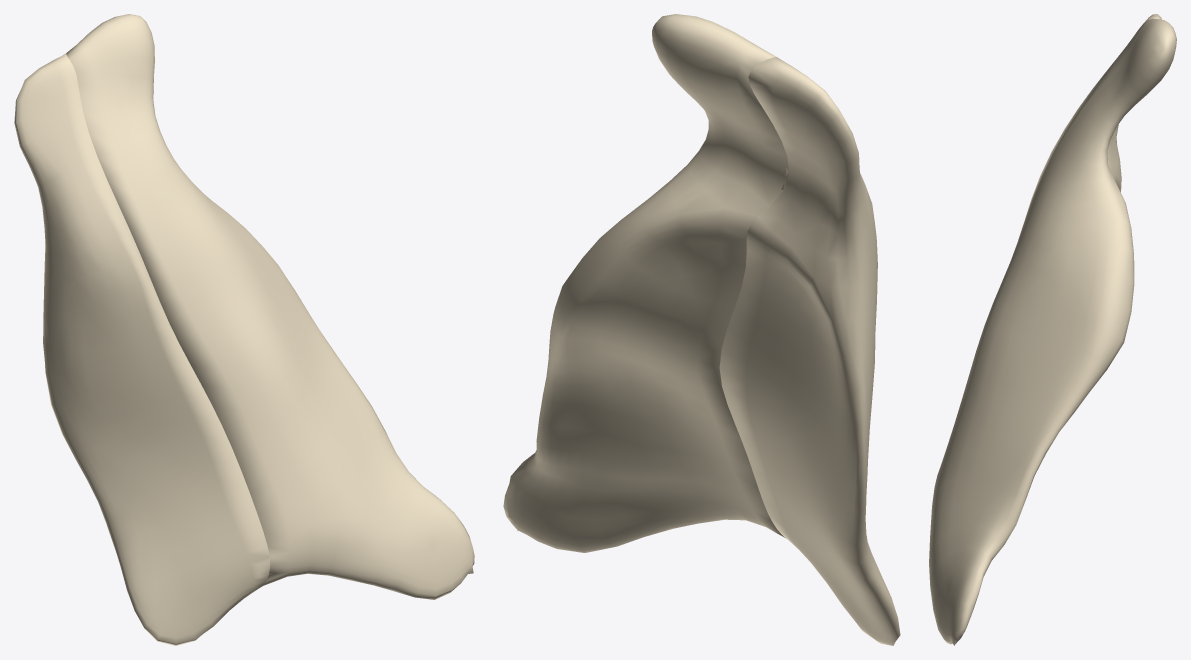
File: thymus-female.glb
3 renders of one model, left to right at view 1: azimuth 30°, elevation 25°; view 2: azimuth 150°, elevation 25°; view 3: azimuth 270°, elevation 25°, orthographic. The views are drawn at different scales.
Visible parts, largest first — view 1: VH_F_thymus_lobe_L, VH_F_thymus_lobe_R; view 2: VH_F_thymus_lobe_L, VH_F_thymus_lobe_R; view 3: VH_F_thymus_lobe_L, VH_F_thymus_lobe_R.
Boxes of the visible parts, x1,y1,x2,y2 form: VH_F_thymus_lobe_L: (66,14,474,599); VH_F_thymus_lobe_R: (14,53,270,645); VH_F_thymus_lobe_L: (503,14,788,552); VH_F_thymus_lobe_R: (719,57,900,645); VH_F_thymus_lobe_L: (929,18,1176,645); VH_F_thymus_lobe_R: (1107,14,1161,192).
Bounding box in the file's own units: 0.086 × 0.1236 × 0.0538.
